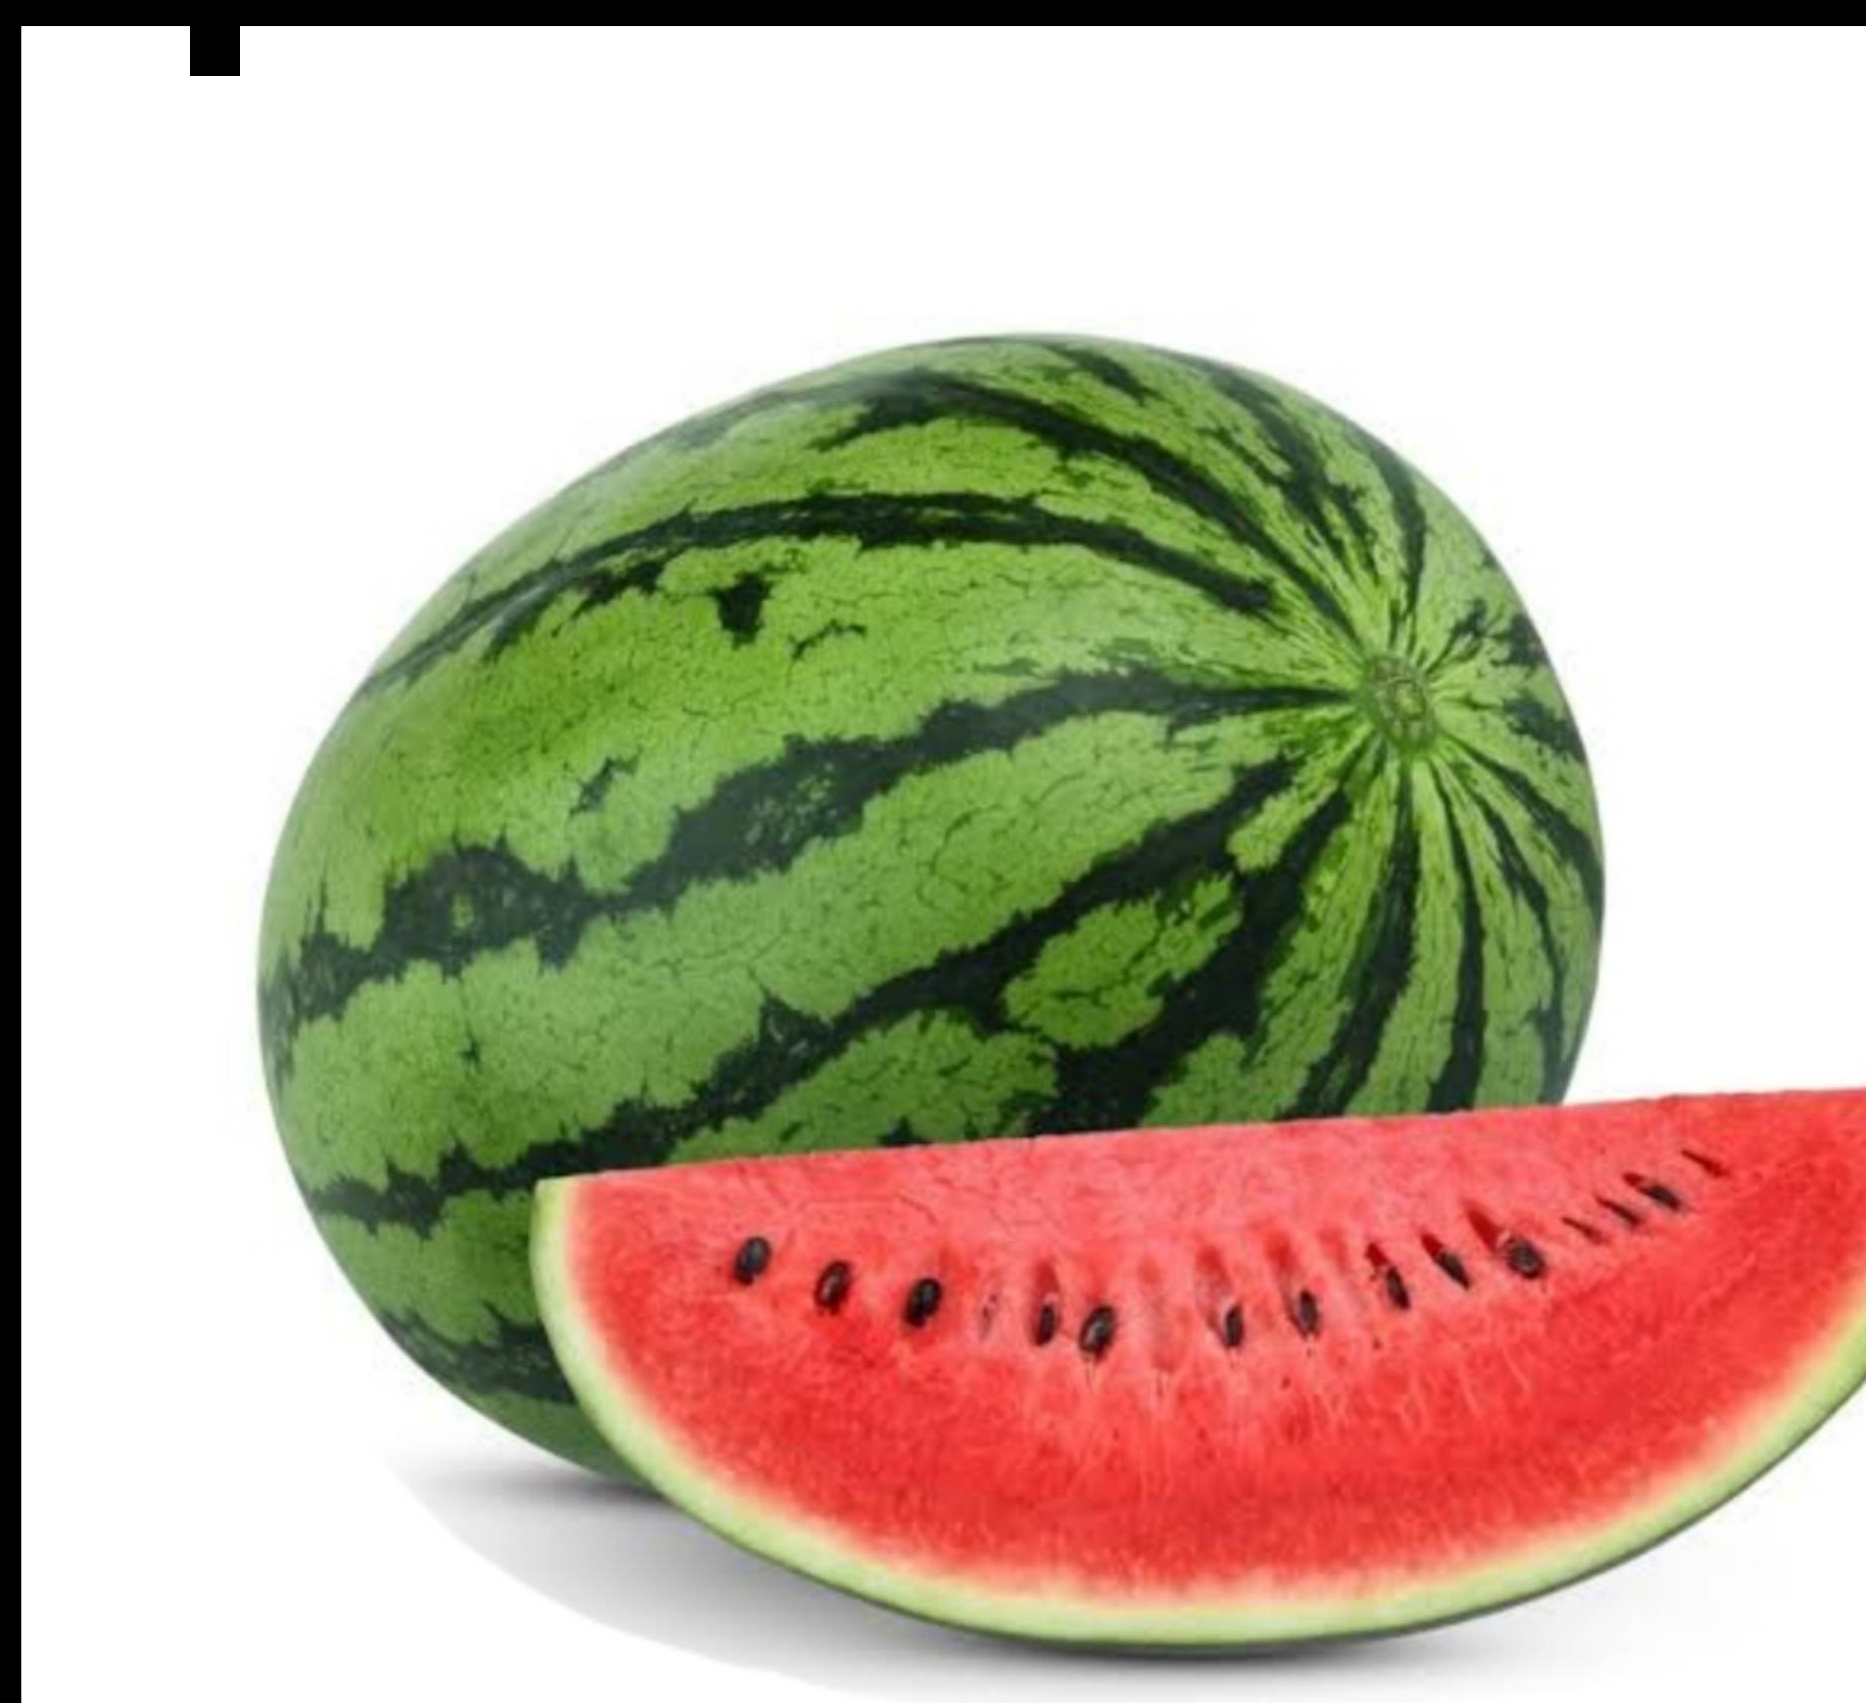watermelon: (208, 335, 1700, 1526)
